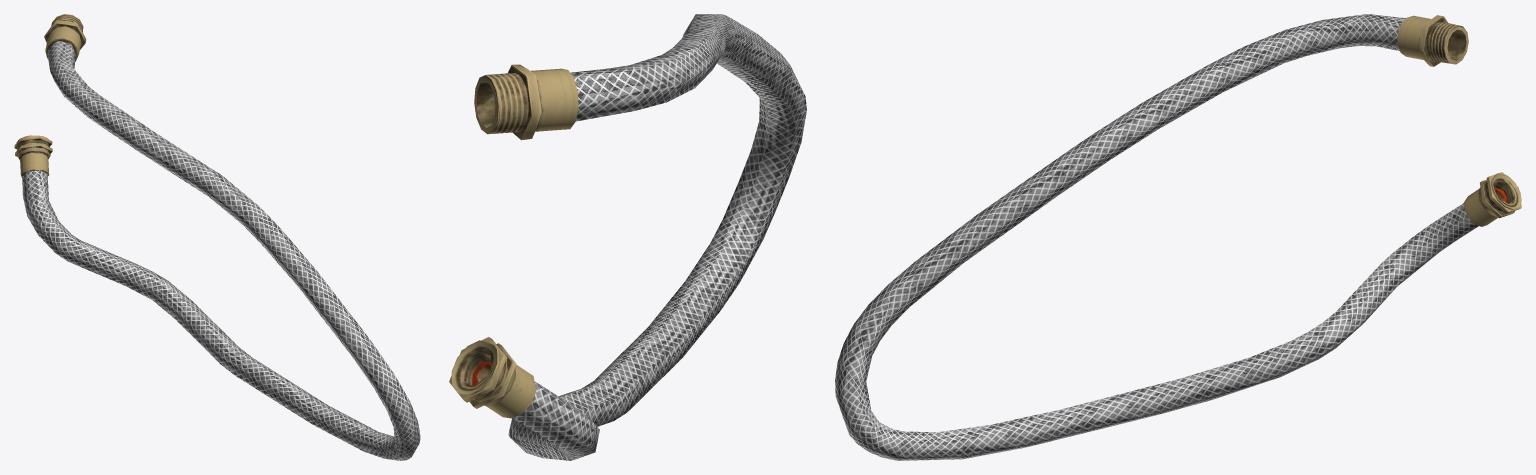
File: hosetool.entity.glb
The picture shows the model from 3 angles, left to right: view 1: azimuth 30°, elevation 25°; view 2: azimuth 150°, elevation 25°; view 3: azimuth 270°, elevation 25°; orthographic projection. The views are drawn at different scales.
Visible parts, largest first — view 1: wm_hose_LOD0; view 2: wm_hose_LOD0; view 3: wm_hose_LOD0.
Part boxes in pixels (left/top/right/bottom): wm_hose_LOD0: left=14, top=14, right=420, bottom=460; wm_hose_LOD0: left=449, top=14, right=806, bottom=460; wm_hose_LOD0: left=835, top=14, right=1521, bottom=460.
Size of the model in its own units: 0.2744 by 0.4917 by 0.8062.
1 material, 1 textured.
